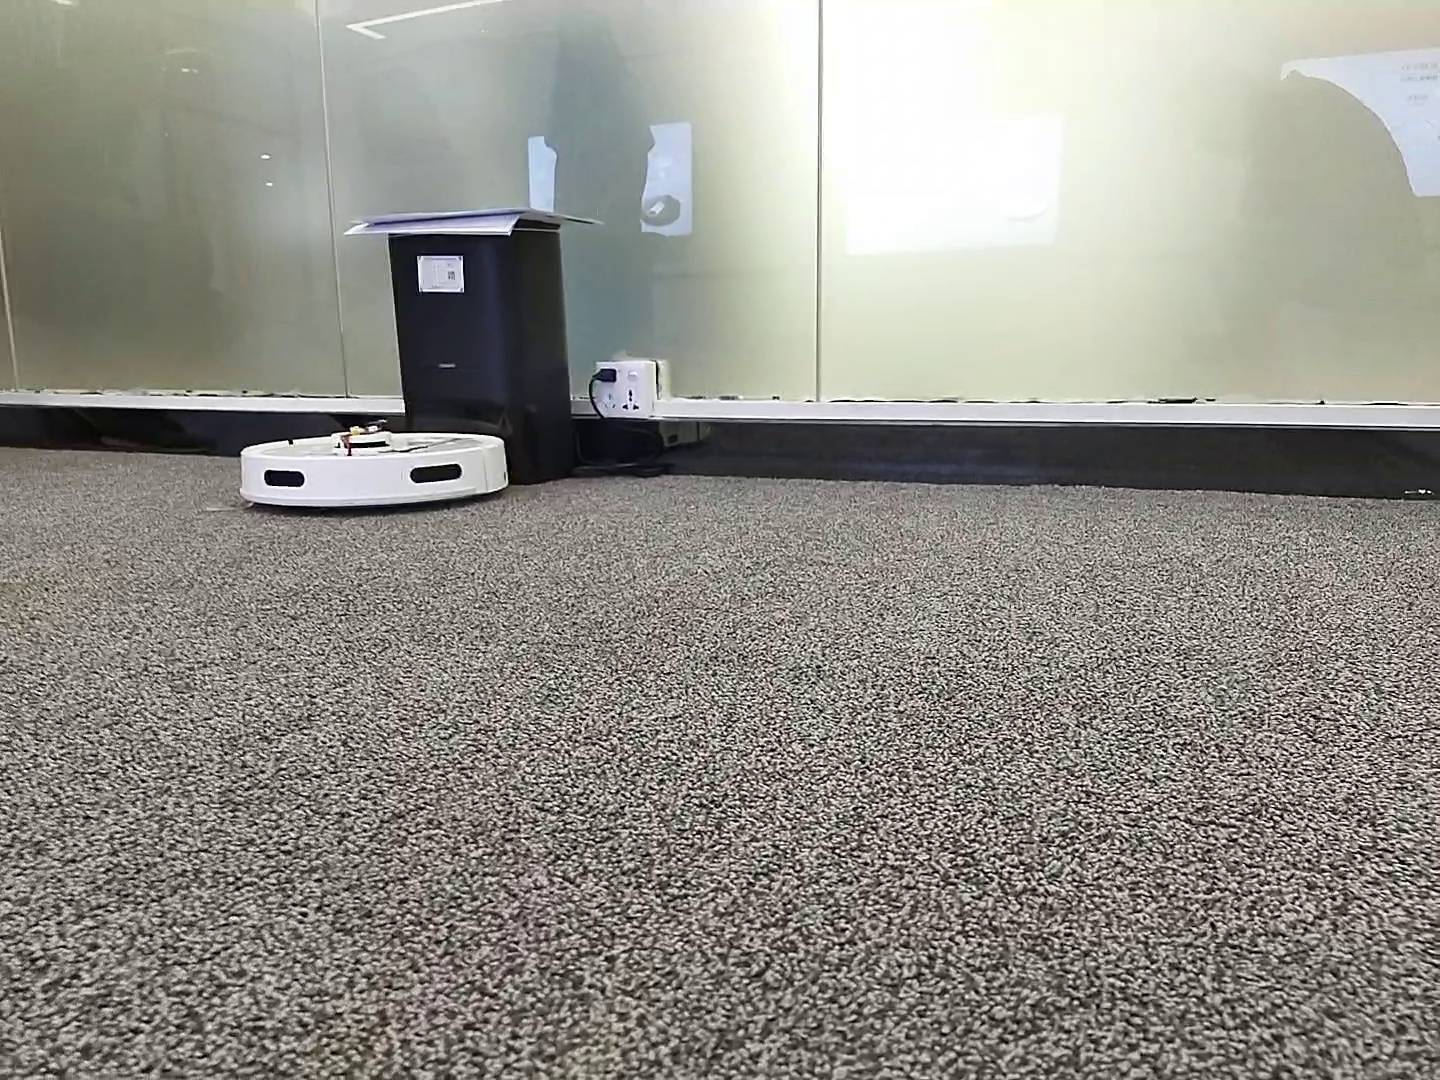dust collecting barrel: (389, 222, 576, 487)
